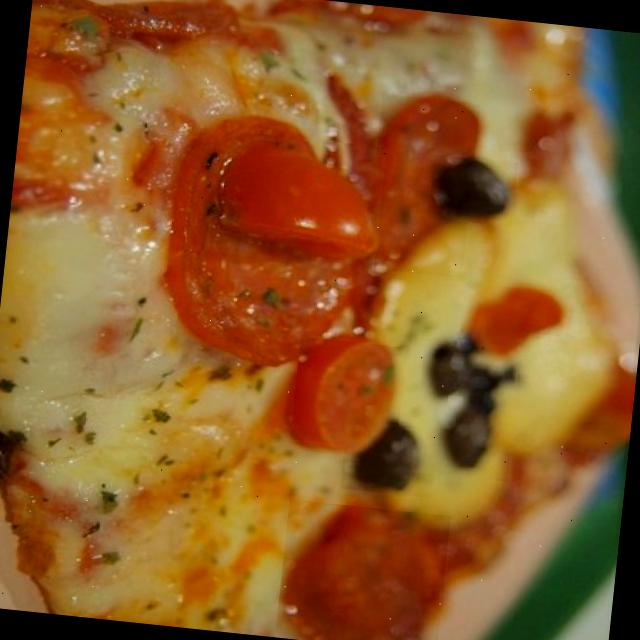Olive: (411, 328, 522, 480), (339, 420, 436, 497), (428, 153, 516, 225)
pepperoni: (174, 126, 356, 360), (274, 498, 449, 640), (362, 92, 478, 276)
pizza: (0, 0, 630, 640)
tomato: (205, 136, 385, 272), (290, 336, 406, 450), (456, 280, 570, 376)
